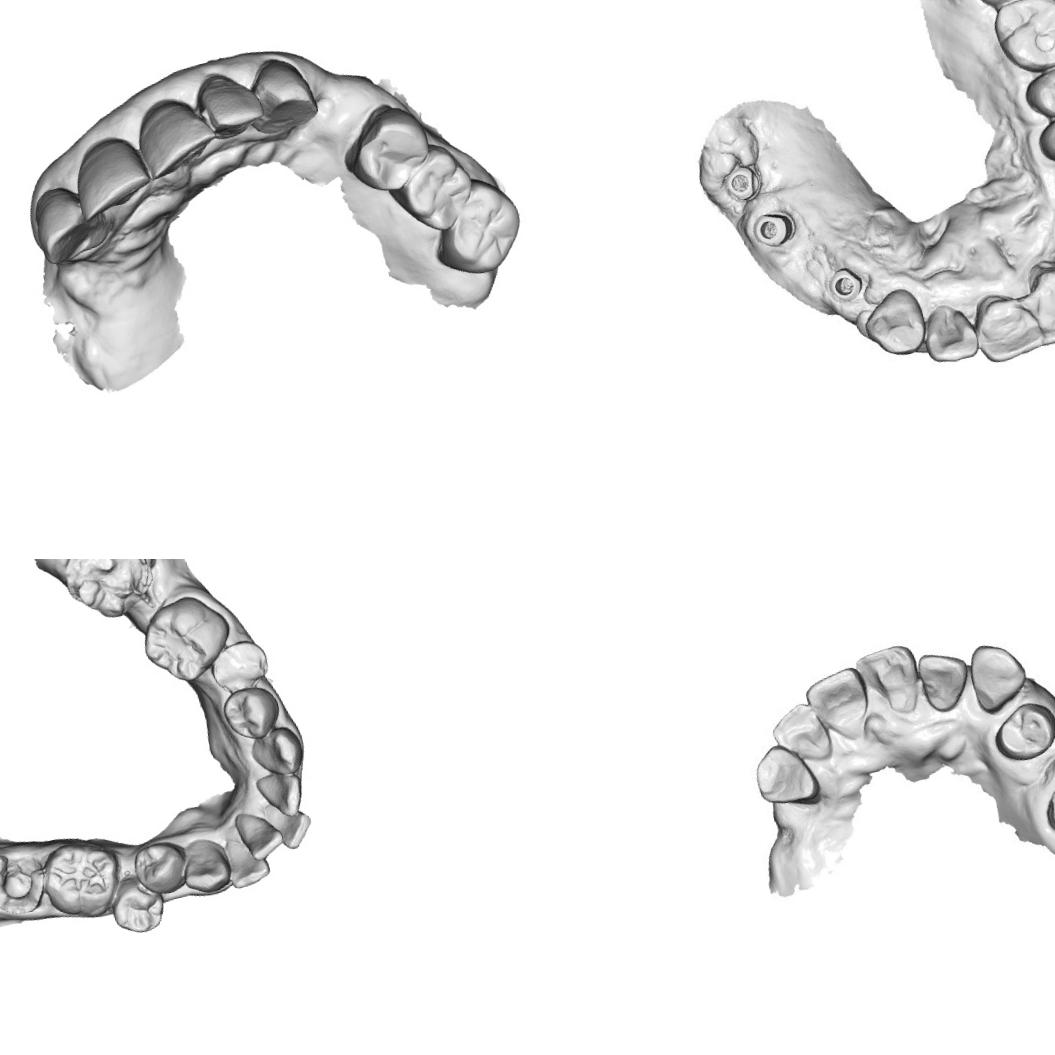canine: (242, 50, 324, 142), (742, 732, 826, 818), (858, 280, 938, 365), (959, 634, 1037, 719), (175, 832, 236, 898), (246, 722, 308, 782)
implant: (820, 255, 870, 309), (748, 205, 798, 253), (718, 160, 764, 206)
incisor: (67, 128, 159, 224), (132, 90, 222, 182), (23, 182, 101, 271), (799, 660, 876, 742), (760, 697, 836, 771), (192, 62, 264, 140), (972, 294, 1048, 364), (909, 643, 978, 717), (855, 638, 922, 714), (914, 299, 980, 369), (232, 804, 288, 866), (253, 767, 310, 824), (262, 795, 317, 854), (220, 831, 274, 890), (1026, 254, 1055, 346)
molar: (134, 588, 239, 691), (342, 96, 443, 201), (35, 832, 129, 928), (55, 559, 161, 628), (447, 181, 527, 268), (397, 145, 477, 232), (990, 0, 1055, 77)
premolar: (984, 692, 1055, 770), (205, 634, 275, 700), (218, 680, 285, 746), (105, 874, 170, 940), (128, 837, 192, 900), (1020, 59, 1055, 117), (1030, 103, 1055, 169)
